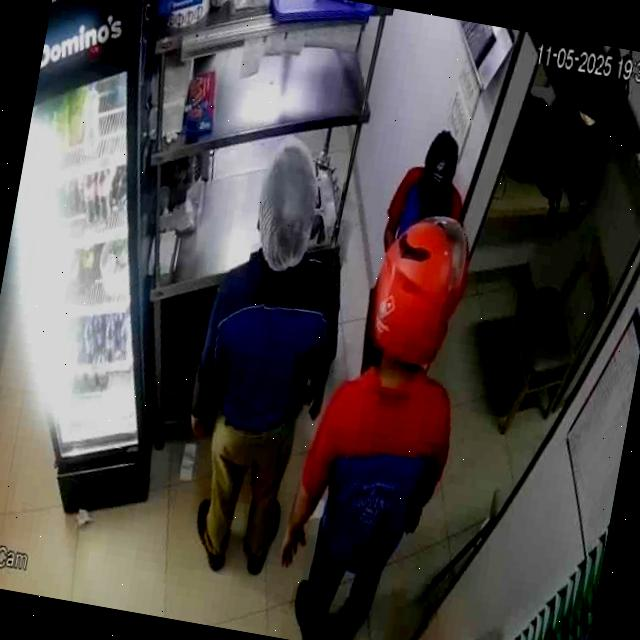helmet: (367, 212, 464, 382)
